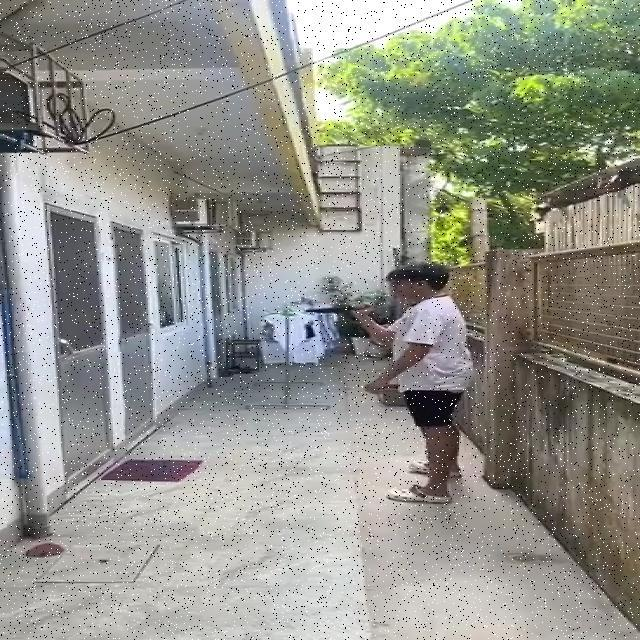knife: (305, 306, 361, 314)
non-violence: (302, 264, 474, 503)
